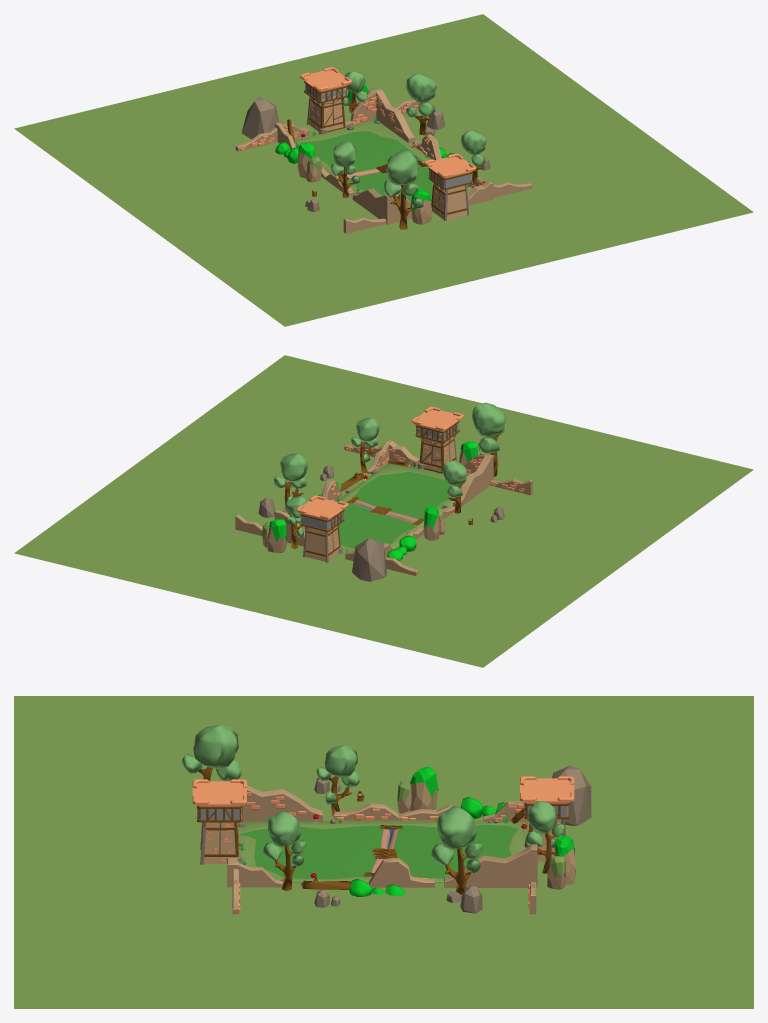
Rendered from env_ruins.fbx.
3 views of the same model, one above another, from view 1: azimuth 30°, elevation 25°; view 2: azimuth 150°, elevation 25°; view 3: azimuth 270°, elevation 25° (orthographic). The views are drawn at different scales.
Visible parts, largest first — view 1: plane, map, turn, turn2, copac5, pCube336, margini, copac2, pCube347, Rock33, copac6, copac3 (+3 smaller); view 2: plane, map, turn2, turn, copac5, Rock33, pCube347, margini, copac2, copac3, copac6, pCube345 (+2 smaller); view 3: plane, map, turn, copac2, margini, copac5, pCube336, turn2, copac3, pCube347, copac6, copac1 (+7 smaller).
Part boxes in pixels (x1,y1,x2,y2): plane: (14,14,753,326); map: (299,131,432,202); turn: (424,153,476,220); turn2: (300,67,352,134); copac5: (383,149,423,229); pCube336: (345,88,415,142); margini: (294,120,471,194); copac2: (406,73,436,135); pCube347: (352,188,411,224); Rock33: (241,96,279,139); copac6: (331,140,359,197); copac3: (461,130,486,182); plane: (14,355,753,667); map: (339,471,461,552); turn2: (296,495,348,562); turn: (411,406,463,473); copac5: (472,402,506,476); Rock33: (352,537,386,581); pCube347: (453,453,493,506); margini: (301,463,452,553); copac2: (274,453,307,512); copac3: (351,417,379,473); copac6: (442,460,467,513); pCube345: (366,440,419,473); plane: (14,696,753,1008); map: (240,824,517,882); turn: (192,779,246,864); copac2: (431,805,482,897); margini: (240,821,527,882); copac5: (181,724,241,781); pCube336: (444,844,537,887); turn2: (520,776,574,861); copac3: (262,810,306,891); pCube347: (242,785,322,821); copac6: (316,745,360,815); copac1: (525,801,565,873).
Bounding box in the file's own units: 61.66 × 13.27 × 61.66.
